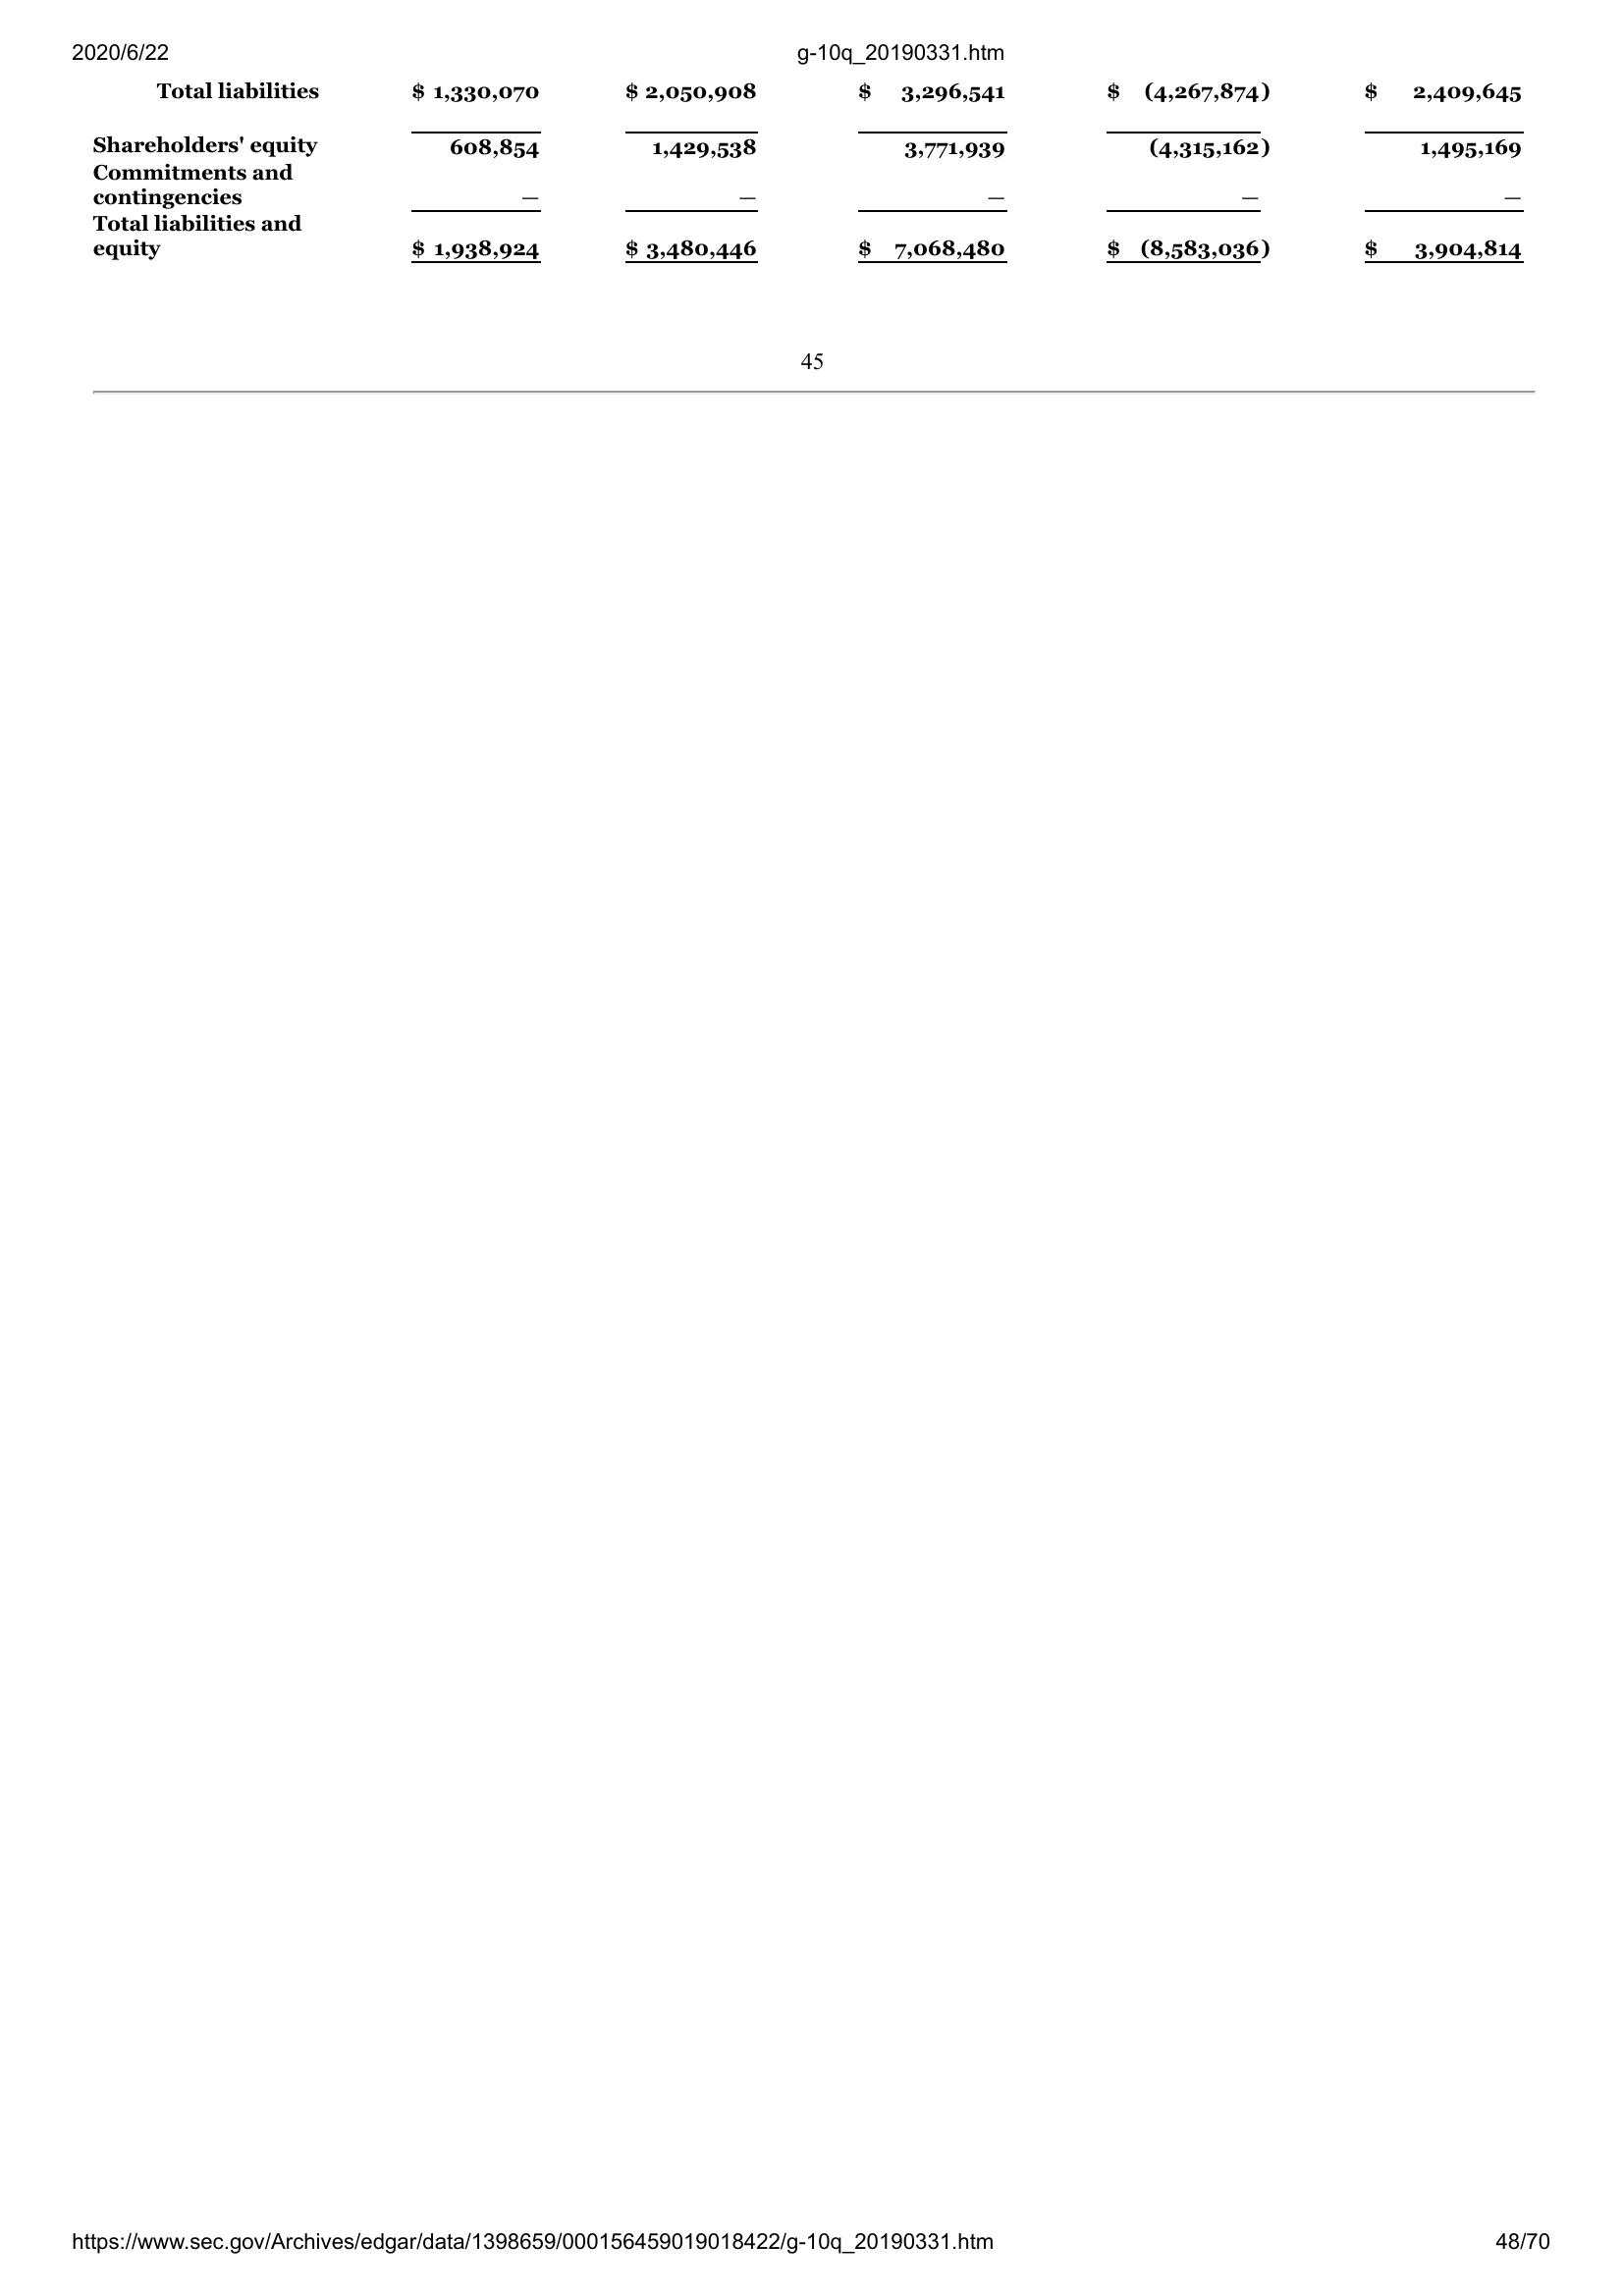table: (84, 68, 1530, 270)
